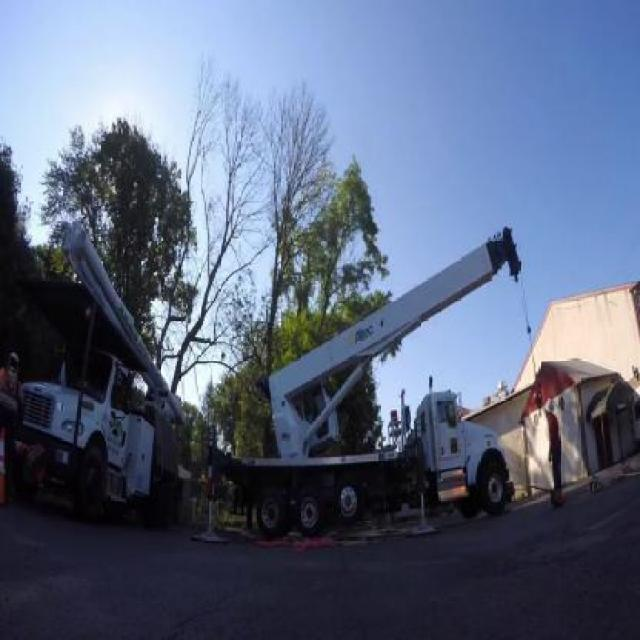Mobile Crane: (233, 223, 524, 539), (25, 222, 190, 521)
